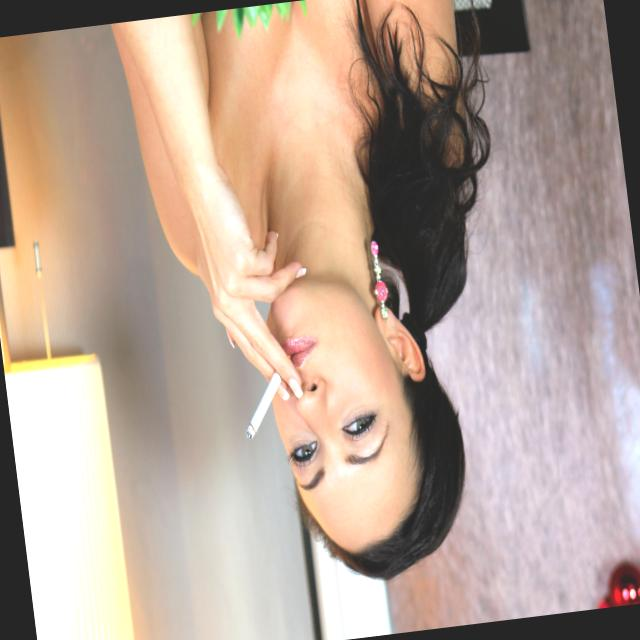cigarette: (236, 371, 287, 442)
